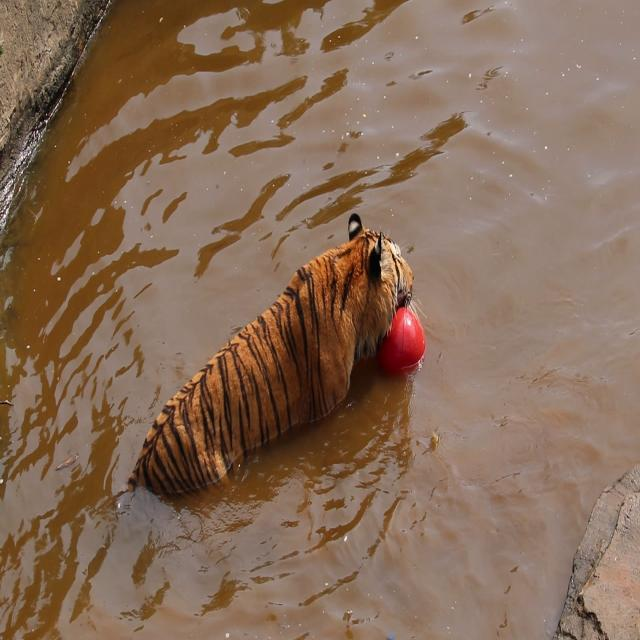Tiger: (123, 184, 431, 546)
